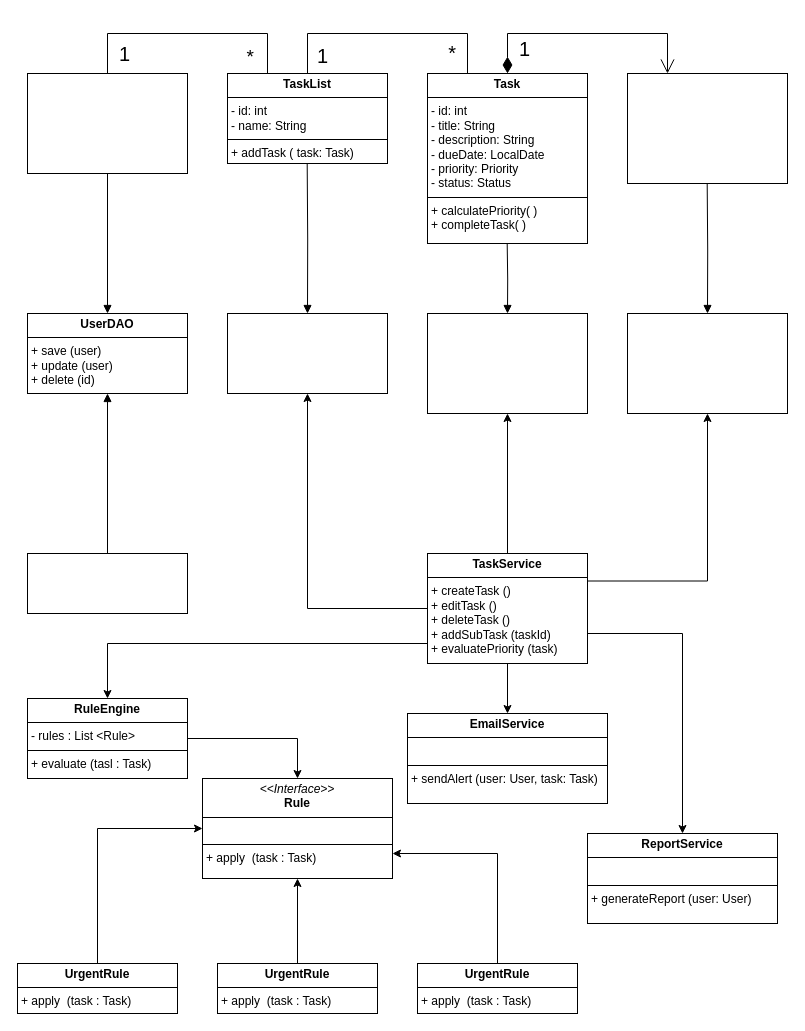
Image size: 805x1031. Some labels were removed from this diagram. Each missing label, with the box of its shape:
SubTask -id: int -title: String -status: Status + completeSubTask( ): (626, 72, 788, 184)
SubTaskDAO + save (Task) + update (Task) + delete (id) + findByList (id): (626, 312, 788, 414)
TaskDAO + save (Task) + update (Task) + delete (id) + findByList (id): (426, 312, 588, 414)
TaskListDAO + save (TaskList) + delete (id): (226, 312, 388, 394)
User - id: int - name: String - email: String: (26, 72, 188, 174)
UserService + createUser (email): (26, 552, 188, 614)
